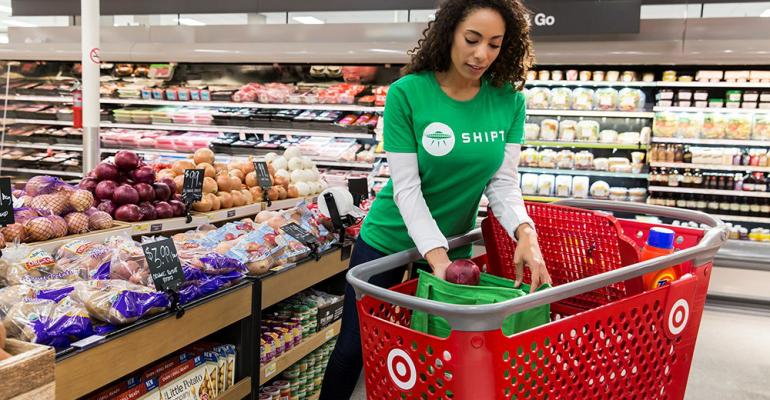Age_20_30: (442, 6, 529, 94)
E_Hispanic: (442, 6, 529, 94)
Emotion_Happy: (442, 6, 529, 94)
G_ Female: (442, 6, 529, 94)
